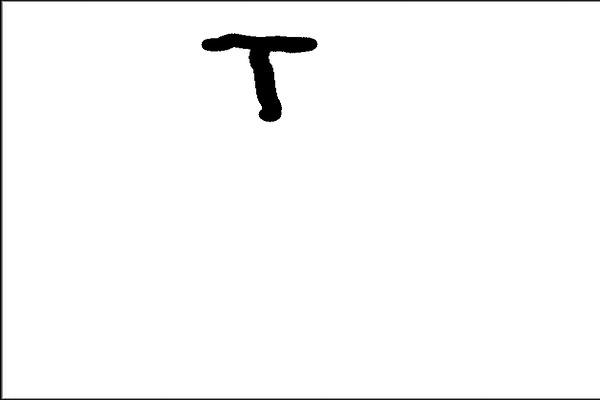T: (194, 18, 322, 123)
